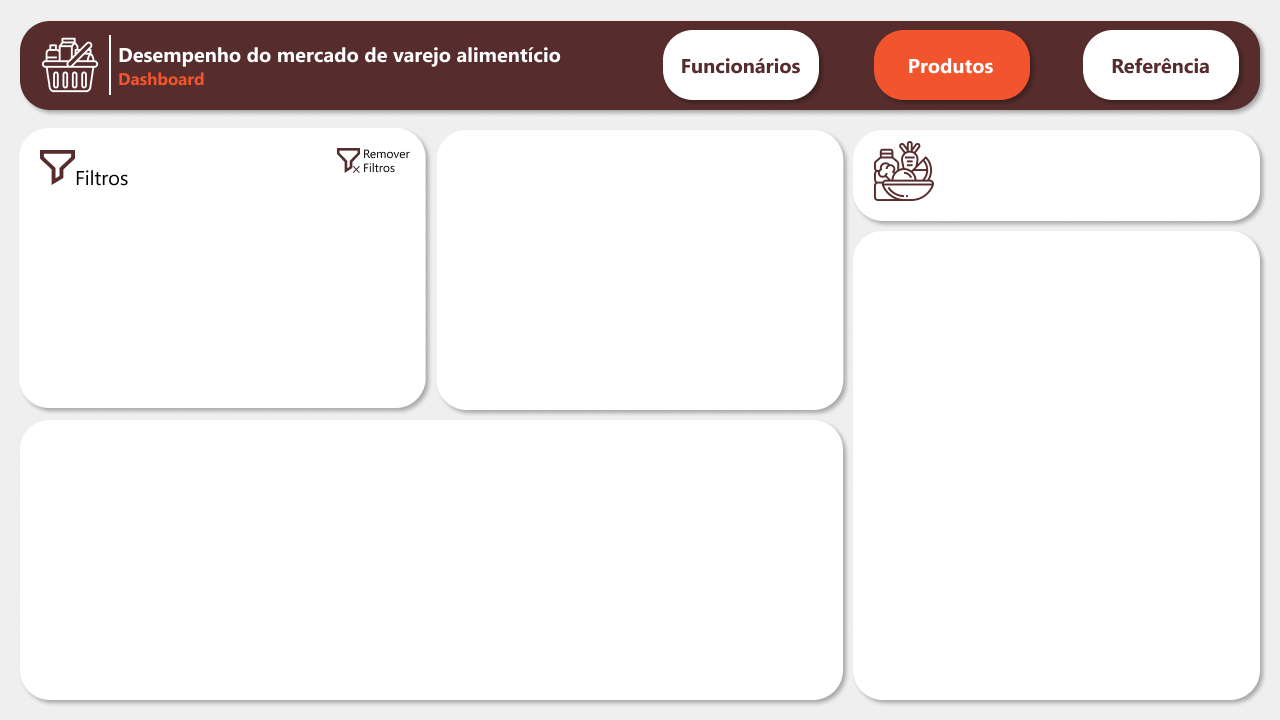

This screenshot's page, from the dashboard's own definition file:
{"tool":"powerbi","page":{"name":"Categoria","canvas":[1280,720],"ordinal":2},"visuals":[{"type":"actionButton","box":[0,0,100,40],"z":0},{"type":"hundredPercentStackedBarChart","title":"Ganho por opção de compra e categoria","fields":{"Category":["D_Modelo_Compra.Extenso_Op_Compra"],"Y":["Sum(DB_Sub_Mapa_Calor.Ganho)"],"Series":["D_Categoria.Categoria"]},"box":[442.2,131.8,400,273.5],"z":1000},{"type":"lineChart","title":"Ganho de categoria por mês","fields":{"Y":["F_Vendas.Ganho"],"Series":["D_Categoria.Categoria"],"Category":["Calendario.MesNome"]},"box":[29.8,422.4,805,277.8],"z":2000},{"type":"treemap","title":"Ganho por categoria e produto","fields":{"Group":["D_Categoria.Categoria"],"Details":["D_Produto.Produto"],"Values":["F_Vendas.Ganho"]},"box":[853,236,409,453],"z":3000},{"type":"slicer","title":"Data","fields":{"Values":["F_Vendas.Data"]},"box":[29.5,199.7,391.2,96.6],"z":4000},{"type":"slicer","fields":{"Values":["F_Vendas.Situação_Extensão2"]},"box":[221.1,316.1,199.8,87.9],"z":5000},{"type":"slicer","fields":{"Values":["D_Cliente.Cliente"]},"box":[21.3,314.6,199.8,87.9],"z":6000},{"type":"actionButton","box":[663.3,26.9,155.9,73.7],"z":7000},{"type":"actionButton","box":[1081.7,26.7,158.3,73.9],"z":8000},{"type":"card","fields":{"Values":["D_Produto.Quant_Bebida"]},"box":[934,121.9,328.8,97.8],"z":9000},{"type":"actionButton","box":[331.5,138.5,83.1,43.1],"z":10000},{"type":"actionButton","box":[32.6,26.9,78,73.7],"z":11000}]}

Visuals, with their boxes in screenshot pixels (x1, y1, x2, y2), scaled from the page's 1280x720 canvas onto the 1280x720 screenshot:
actionButton: bbox=(0, 0, 100, 40)
"Ganho por opção de compra e categoria" hundredPercentStackedBarChart: bbox=(442, 132, 842, 405)
"Ganho de categoria por mês" lineChart: bbox=(30, 422, 835, 700)
"Ganho por categoria e produto" treemap: bbox=(853, 236, 1262, 689)
"Data" slicer: bbox=(30, 200, 421, 296)
slicer - F_Vendas.Situação_Extensão2: bbox=(221, 316, 421, 404)
slicer - D_Cliente.Cliente: bbox=(21, 315, 221, 402)
actionButton: bbox=(663, 27, 819, 101)
actionButton: bbox=(1082, 27, 1240, 101)
card - D_Produto.Quant_Bebida: bbox=(934, 122, 1263, 220)
actionButton: bbox=(332, 138, 415, 182)
actionButton: bbox=(33, 27, 111, 101)
